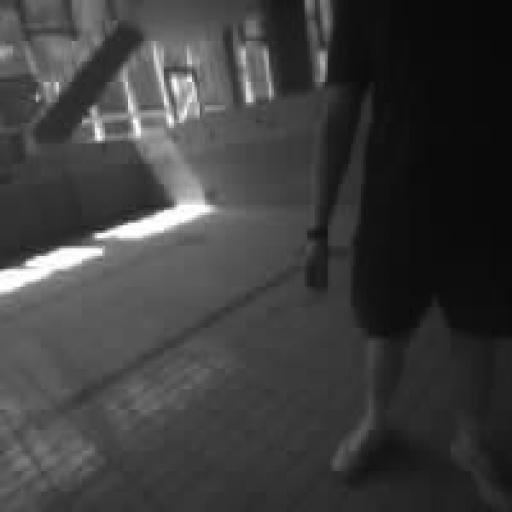human: (305, 0, 511, 511)
